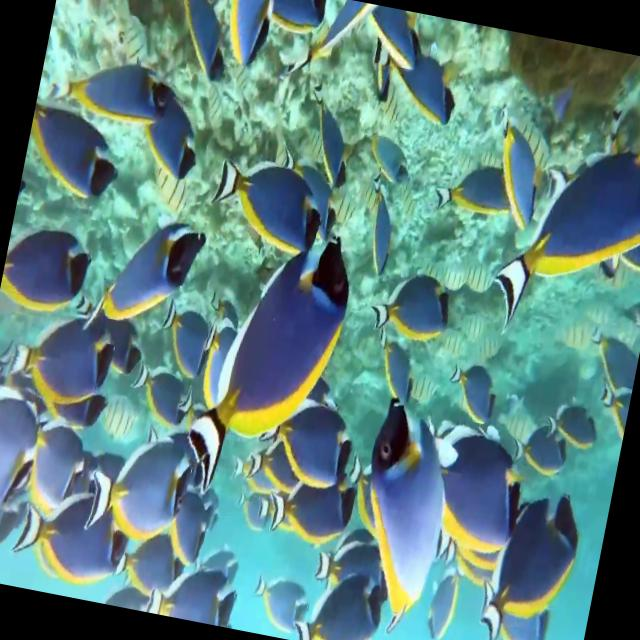fish: (176, 222, 341, 520), (485, 142, 640, 347), (336, 392, 464, 640), (408, 418, 530, 592), (469, 475, 591, 640), (84, 216, 208, 363), (8, 456, 142, 590), (198, 142, 334, 266), (84, 416, 200, 552), (353, 265, 467, 375), (366, 20, 474, 134), (264, 392, 366, 512), (20, 100, 132, 208), (0, 306, 121, 403), (17, 416, 108, 542), (0, 219, 105, 327), (480, 118, 564, 236), (57, 54, 184, 132), (424, 148, 520, 242), (157, 0, 242, 97), (283, 0, 370, 94), (577, 317, 640, 444), (136, 557, 245, 629), (270, 466, 363, 550), (0, 384, 50, 533), (432, 354, 520, 438), (346, 173, 411, 285), (495, 418, 575, 497), (362, 324, 428, 419), (136, 101, 207, 188), (298, 95, 363, 190), (146, 301, 212, 391), (355, 3, 429, 79), (530, 391, 602, 468), (248, 567, 320, 640), (214, 0, 276, 80), (181, 528, 248, 600), (134, 364, 200, 434), (262, 0, 327, 56), (424, 569, 475, 640), (238, 441, 298, 499), (0, 483, 37, 571), (228, 488, 274, 550), (56, 0, 163, 19)
